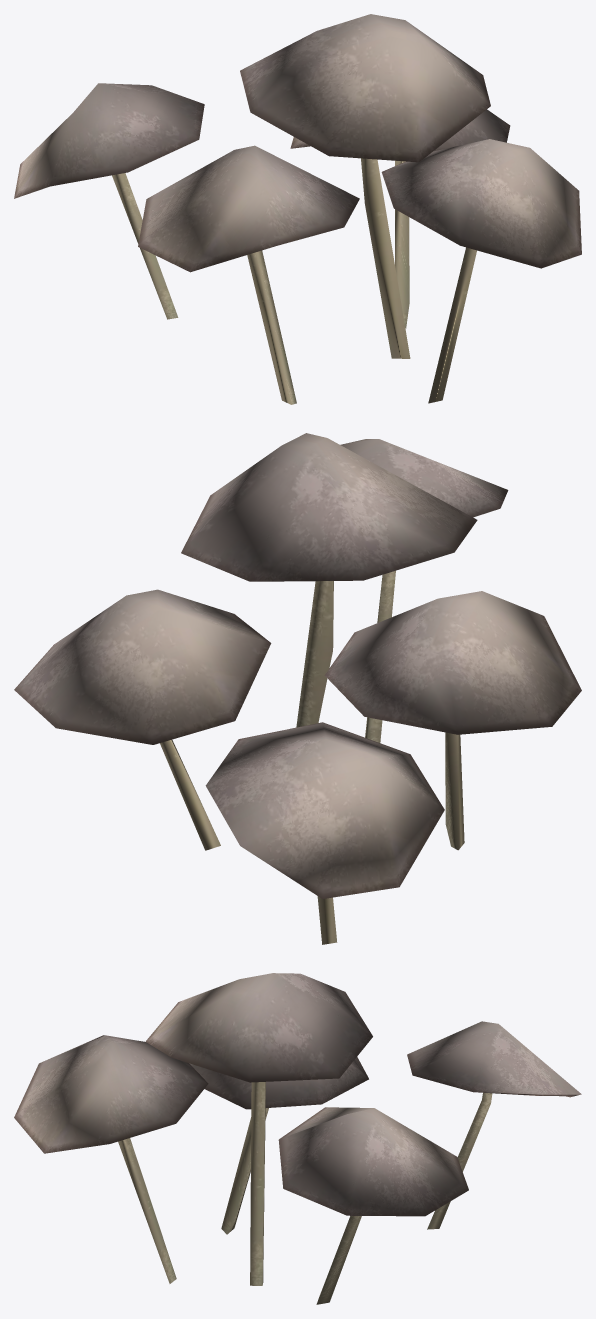
File: mushroom_2.glb
3 views of the same model, one above another, from view 1: azimuth 30°, elevation 25°; view 2: azimuth 150°, elevation 25°; view 3: azimuth 270°, elevation 25° (orthographic). The views are drawn at different scales.
Parts seen in each view (by area): view 1: Mushroom_Common; view 2: Mushroom_Common; view 3: Mushroom_Common.
Part boxes in pixels (x1,y1,x2,y2): Mushroom_Common: [14, 14, 581, 404]; Mushroom_Common: [14, 433, 581, 944]; Mushroom_Common: [14, 973, 581, 1304].
Bounding box in the file's own units: 0.5637 × 0.4612 × 0.7762.
Materials: 1 (1 with a texture image).
